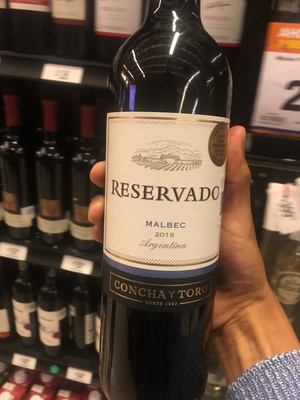reservado malbec: (100, 5, 222, 386)
